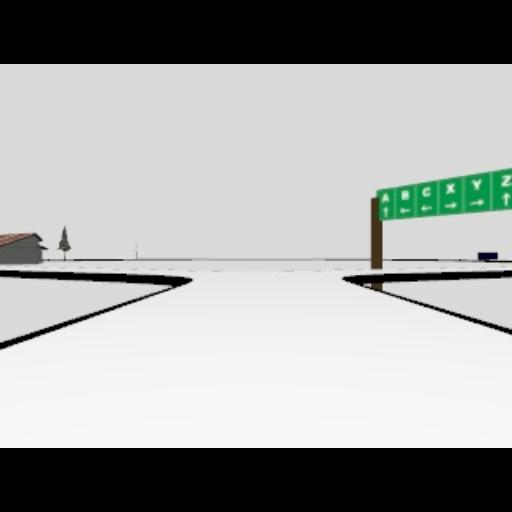A: (382, 193, 390, 203)
B: (400, 190, 410, 202)
C: (422, 186, 432, 198)
Left: (420, 205, 432, 213), (398, 207, 412, 213)
Right: (470, 199, 484, 207), (444, 202, 456, 208)
Straight: (500, 192, 512, 206), (382, 206, 390, 218)
X: (445, 184, 455, 194)
Y: (472, 178, 482, 192)
Z: (500, 176, 512, 186)
